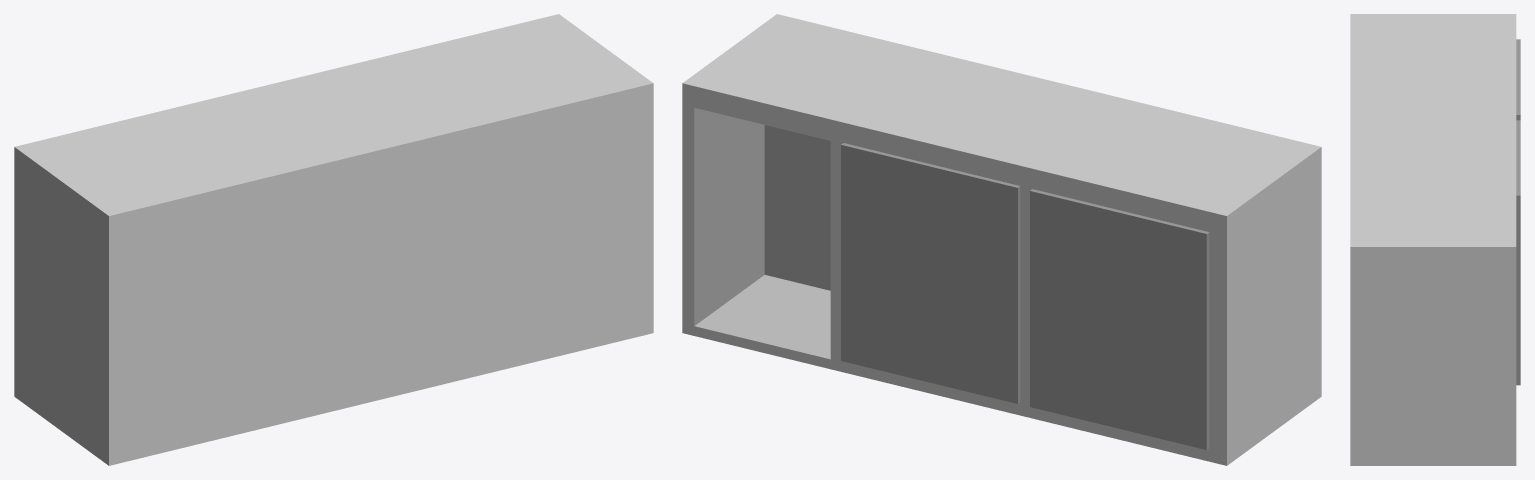
The model's file is prop_office_shelf2.fbx.
3 views of the same model, side by side, from view 1: azimuth 30°, elevation 25°; view 2: azimuth 150°, elevation 25°; view 3: azimuth 270°, elevation 25° (orthographic). The views are drawn at different scales.
Parts seen in each view (by area): view 1: pCube29; view 2: pCube29; view 3: pCube29.
Part boxes in pixels (x1,y1,x2,y2): pCube29: [14, 14, 653, 465]; pCube29: [682, 14, 1321, 465]; pCube29: [1350, 14, 1520, 465].
Size of the model in its own units: 5.17 by 2.26 by 1.6.
